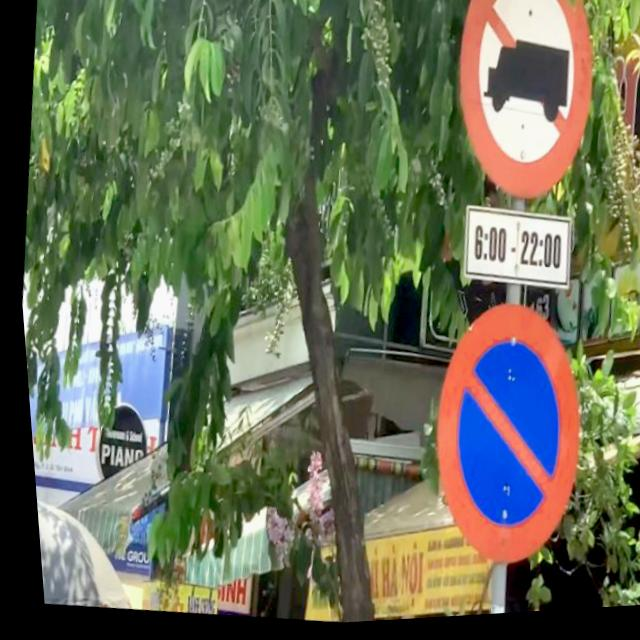Cam do xe: (409, 293, 599, 580)
Cam xe tai: (444, 0, 607, 211)
